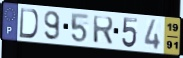4: (143, 19, 162, 51)
5: (70, 12, 91, 44), (121, 17, 140, 49)
9: (43, 10, 61, 42)
D: (18, 7, 40, 40)
R: (92, 15, 115, 46)
